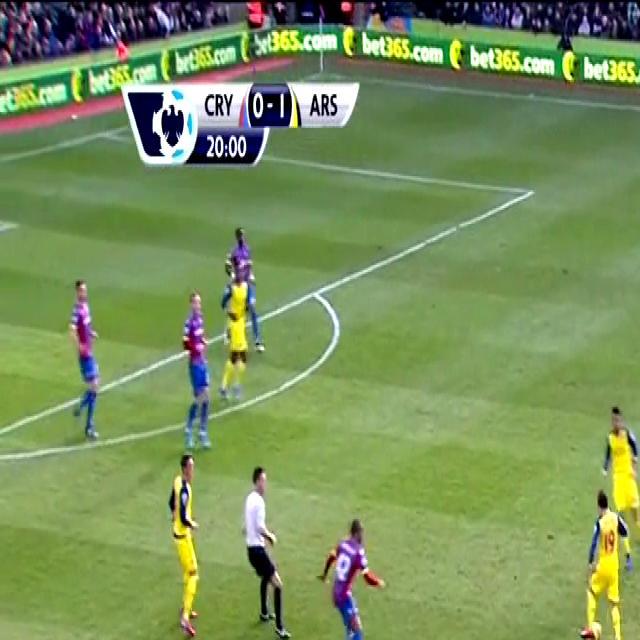referee: (237, 466, 292, 638)
soccer-player: (48, 270, 112, 447), (151, 455, 212, 640), (308, 512, 391, 640), (170, 289, 230, 458), (566, 485, 629, 640), (597, 400, 640, 524), (220, 256, 254, 412)
